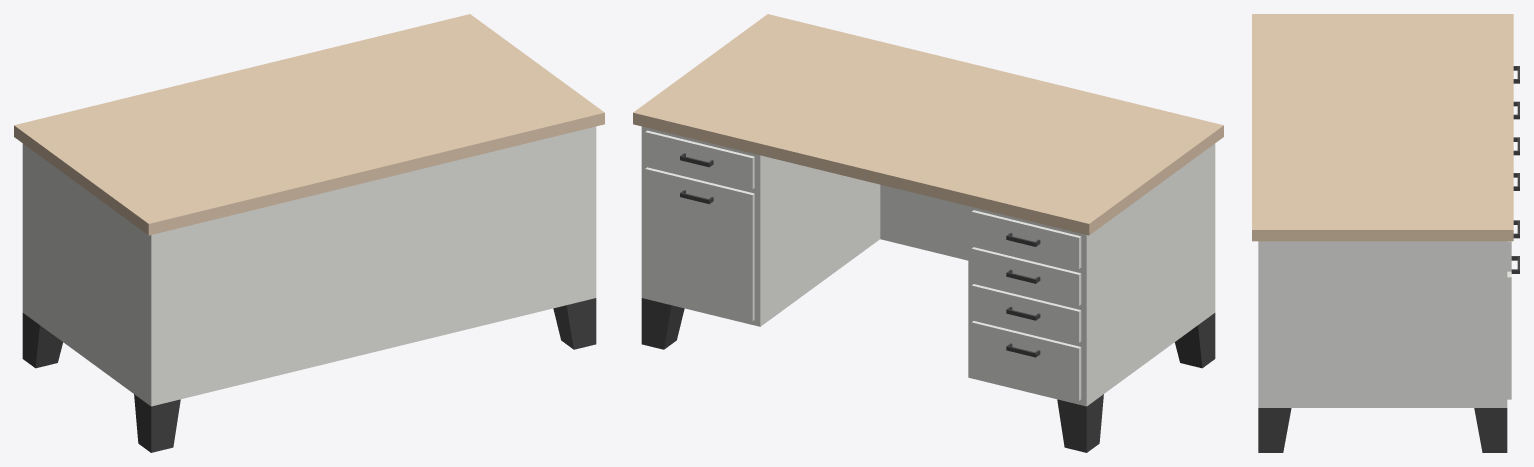
The model's file is zhuozi.gltf.
3 views of the same model, side by side, from view 1: azimuth 30°, elevation 25°; view 2: azimuth 150°, elevation 25°; view 3: azimuth 270°, elevation 25° (orthographic). The views are drawn at different scales.
Parts seen in each view (by area): view 1: product-62b3c08c-bd94-4fdb-bec2-26b846883254-body; view 2: product-62b3c08c-bd94-4fdb-bec2-26b846883254-body; view 3: product-62b3c08c-bd94-4fdb-bec2-26b846883254-body.
Boxes of the visible parts, x1,y1,x2,y2 form: product-62b3c08c-bd94-4fdb-bec2-26b846883254-body: (14,14,604,452); product-62b3c08c-bd94-4fdb-bec2-26b846883254-body: (633,14,1223,452); product-62b3c08c-bd94-4fdb-bec2-26b846883254-body: (1252,14,1519,452).
Bounding box in the file's own units: 1.56 × 0.762 × 0.8191.
